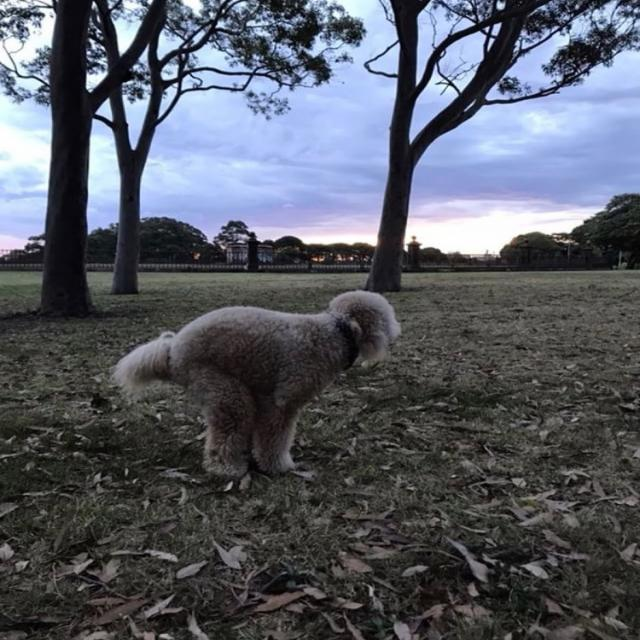squatting: (108, 286, 410, 485)
